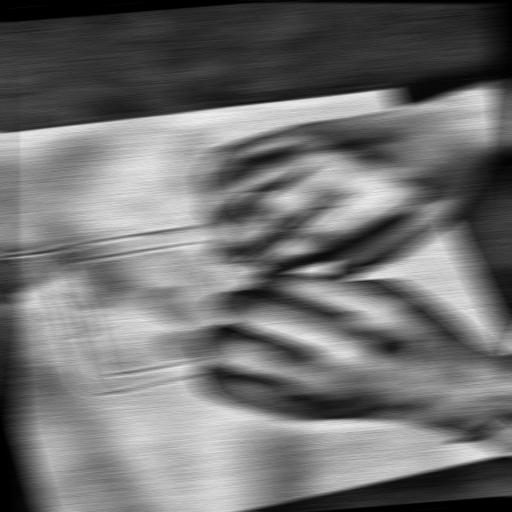bottom_left: (377, 83, 401, 92)
mobile: (0, 186, 466, 413)
